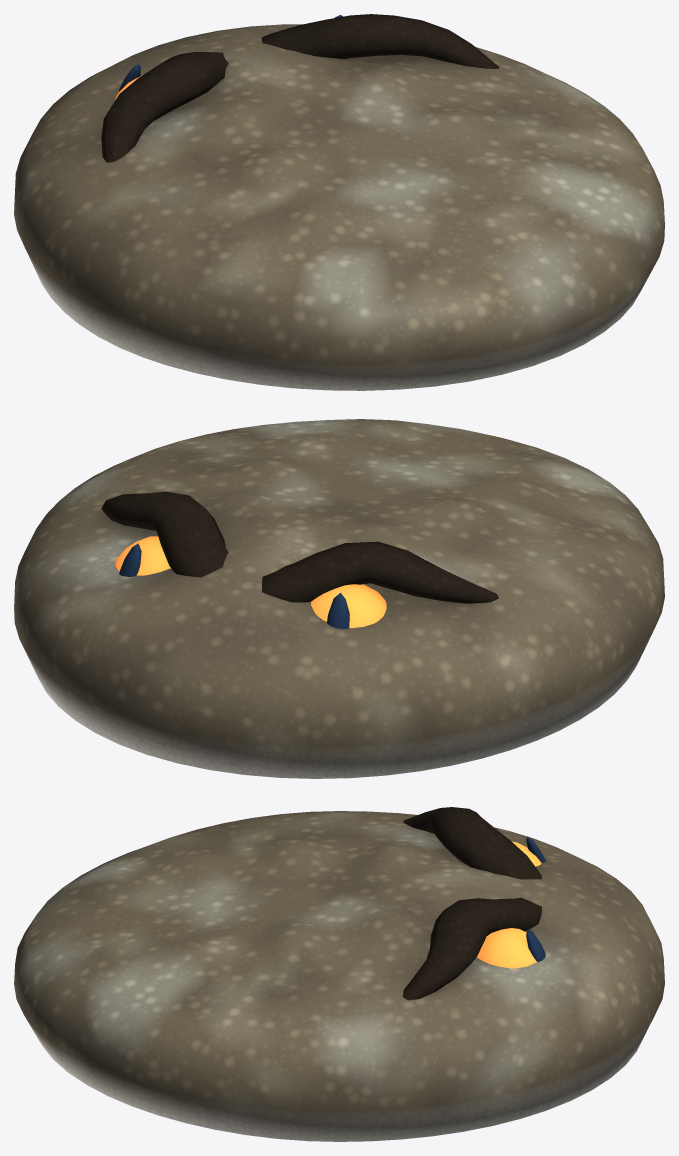
File: creature_elder_ambush_body.glb
3 views of the same model, one above another, from view 1: azimuth 30°, elevation 25°; view 2: azimuth 150°, elevation 25°; view 3: azimuth 270°, elevation 25° (orthographic). The views are drawn at different scales.
Visible parts, largest first — view 1: Body, Brow; view 2: Body, Brow, Eye_L, Eye_R, Pupil_L; view 3: Body, Brow, Eye_R.
Boxes of the visible parts, x1,y1,x2,y2 form: Body: [14, 24, 664, 390]; Brow: [101, 14, 499, 162]; Body: [14, 419, 664, 778]; Brow: [101, 491, 498, 603]; Eye_L: [311, 584, 386, 628]; Eye_R: [115, 536, 170, 575]; Pupil_L: [327, 593, 349, 629]; Body: [14, 811, 664, 1141]; Brow: [403, 807, 541, 1000]; Eye_R: [477, 928, 536, 968].
Bounding box in the file's own units: 0.92 × 0.3159 × 1.
4 materials, 4 textured.
